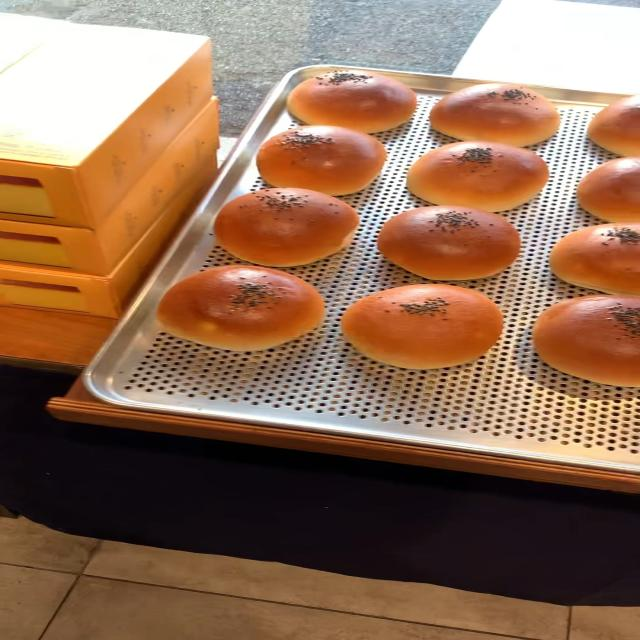bread: (158, 264, 328, 357), (341, 284, 506, 368), (374, 203, 527, 288), (212, 186, 360, 272), (403, 138, 553, 216), (254, 123, 390, 201), (428, 79, 565, 151), (284, 67, 418, 140), (534, 297, 638, 383)
